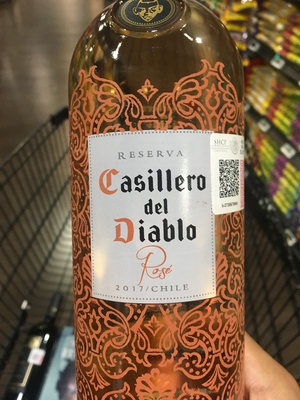casillero del diablo rose: (62, 1, 253, 400)
